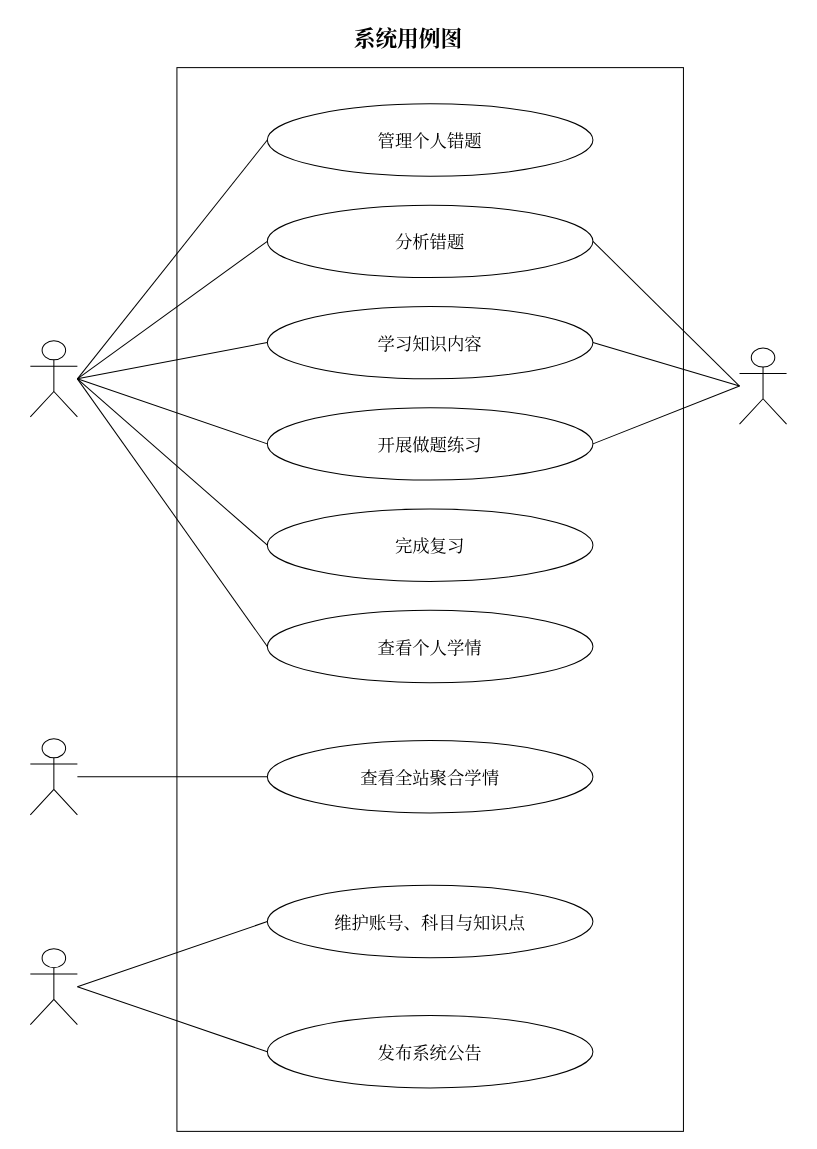
The diagram is 817 pixels wide and 1149 high, and some of its shapes have lost their labels. Here are the shapes that lost their labels. From the top down, the centre of each, then its label:
[53,378]: 学生
[762,385]: AI模型
[53,776]: 教师
[53,986]: 管理员
